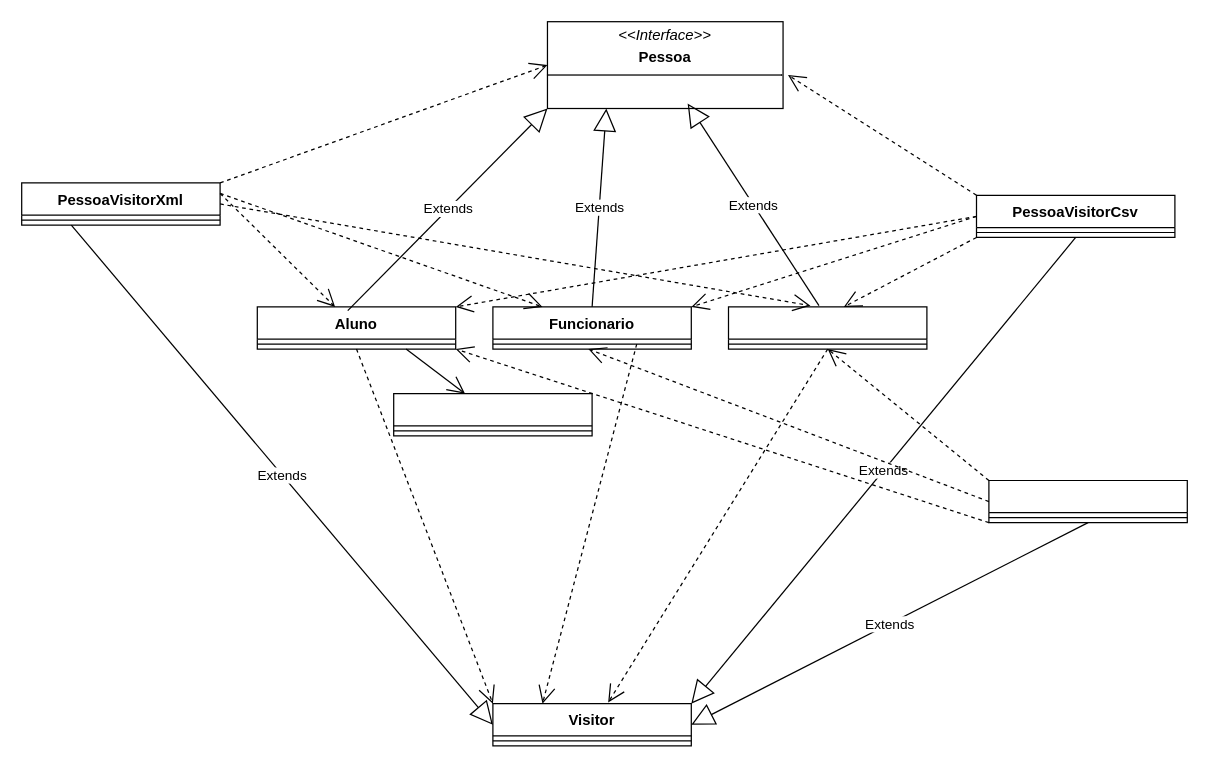
Some shapes in this 1209 by 769 pixel diagram are drawn without their labels. Here are the shapes that lost their labels. From the top down, the centre of each, then its label:
At pixel 827 327: "Professor".
At pixel 492 414: "Curso".
At pixel 1087 501: "PessoaVisitorJson".
